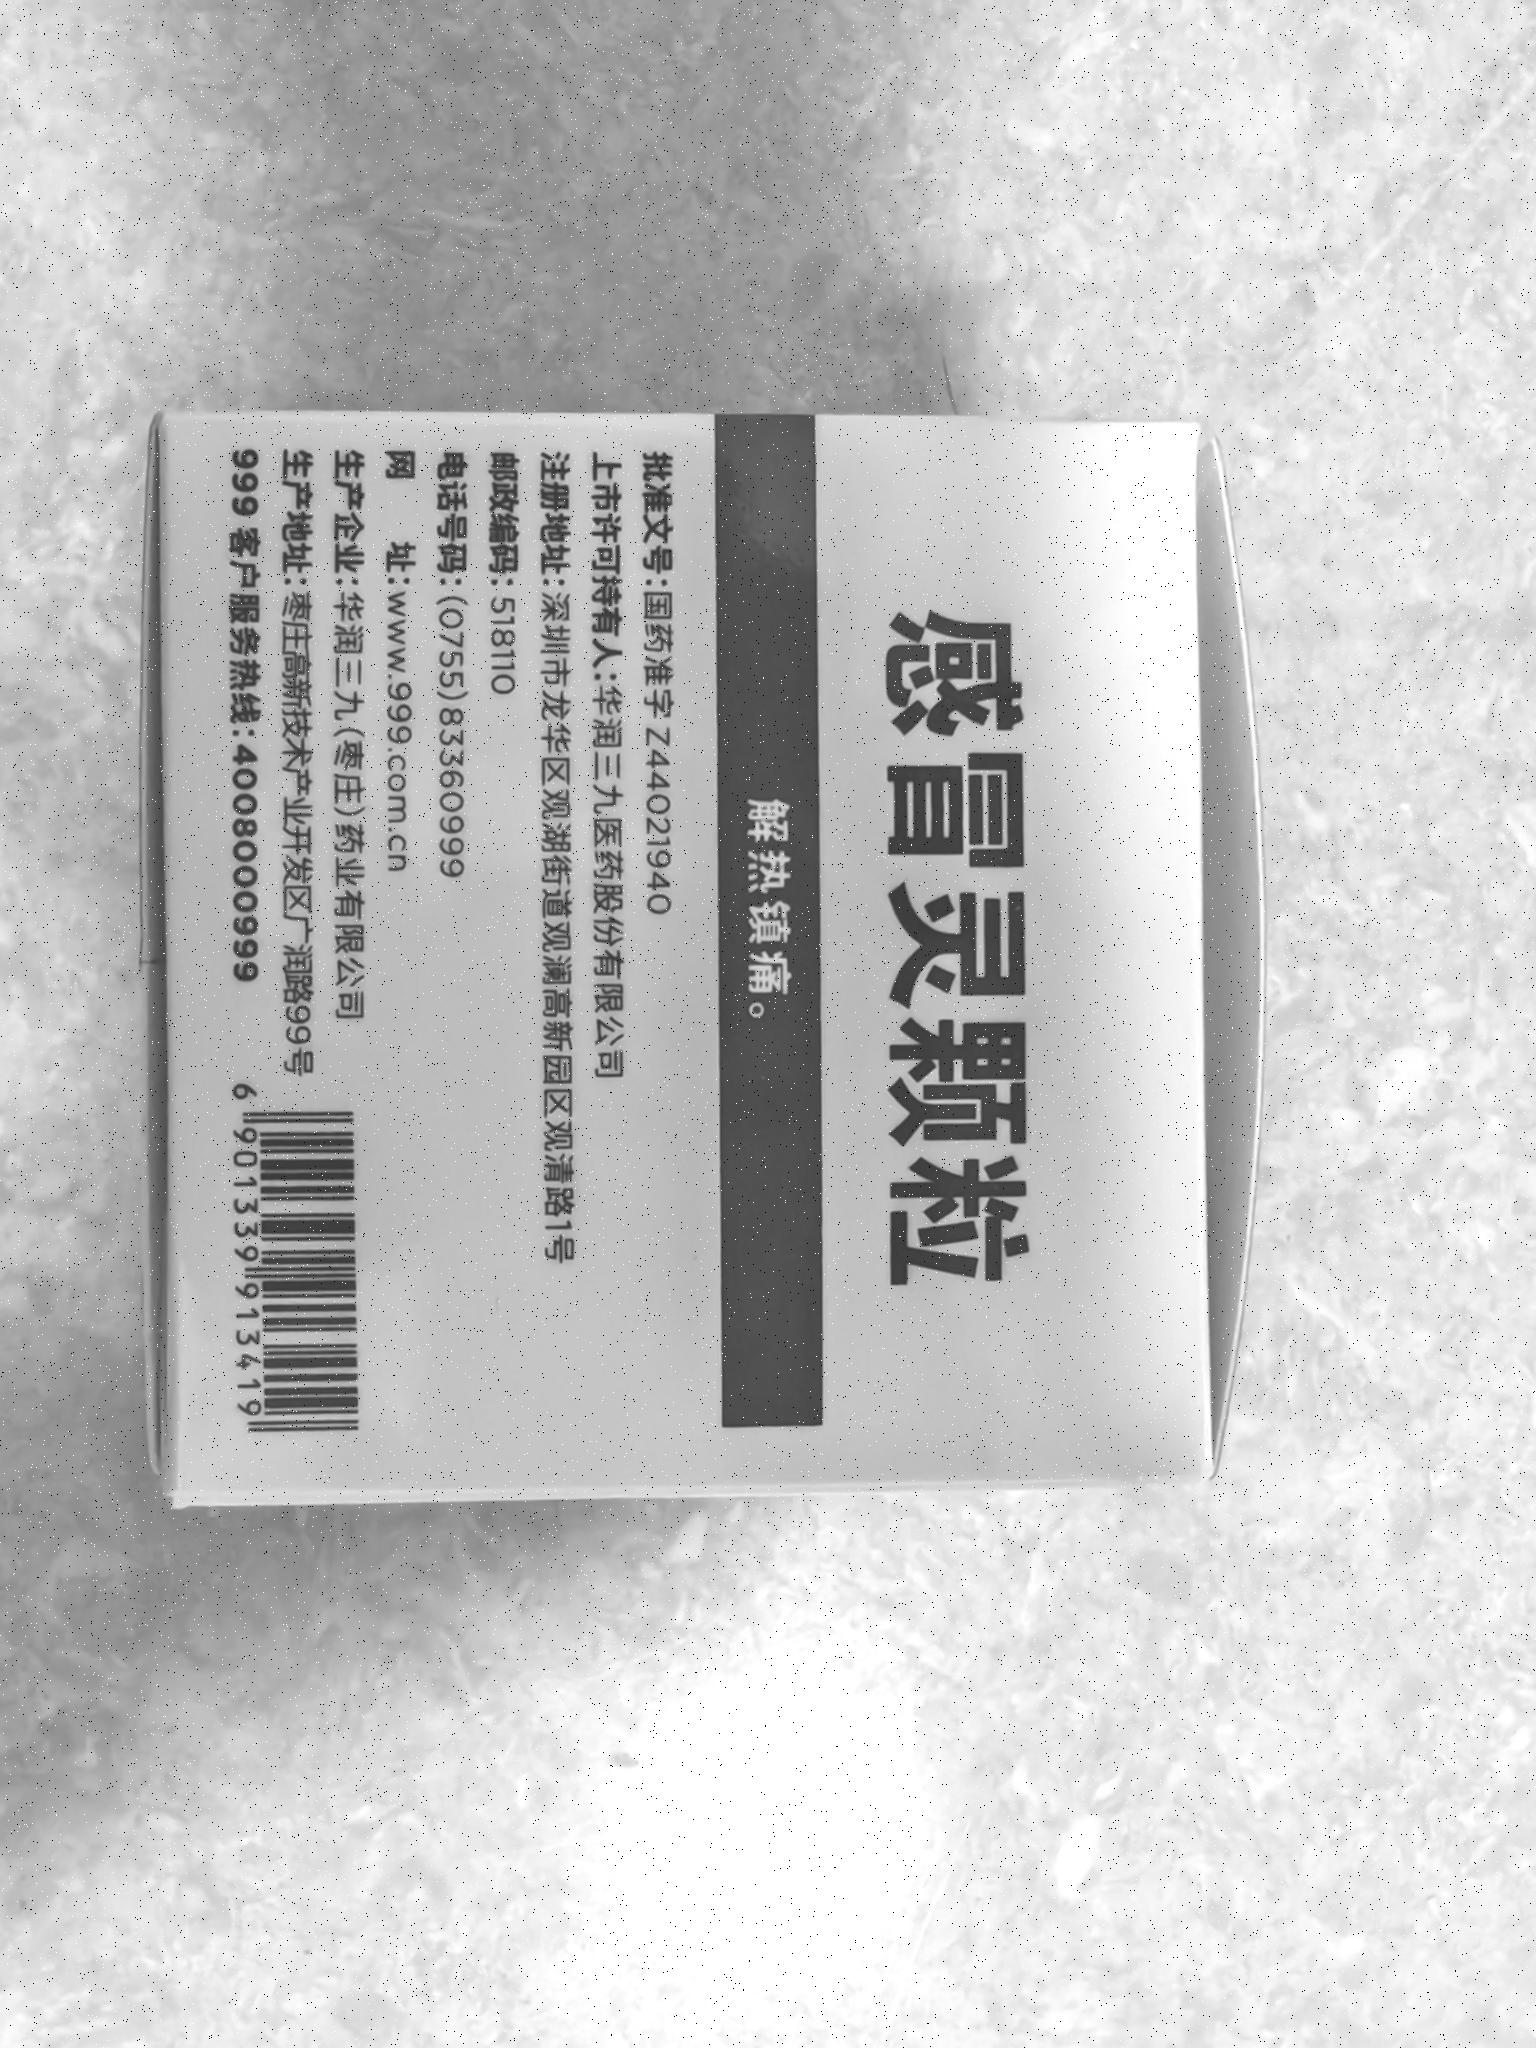Medicine3: (119, 371, 1279, 1517)
